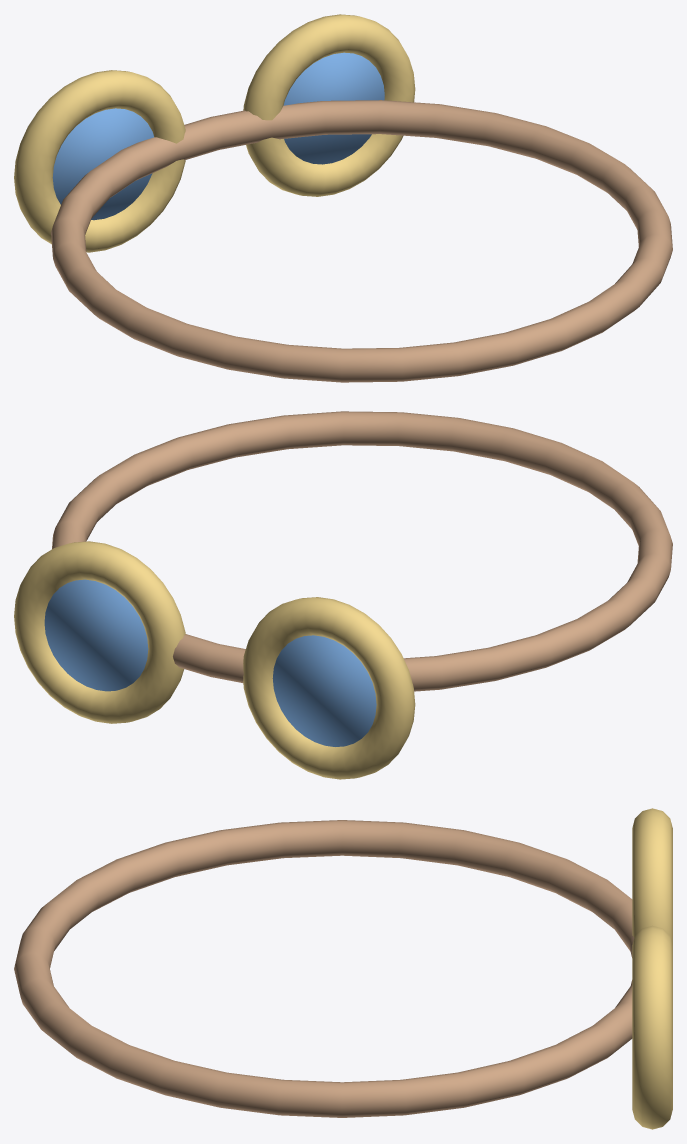
File: pony_goggles.glb
3 views of the same model, one above another, from view 1: azimuth 30°, elevation 25°; view 2: azimuth 150°, elevation 25°; view 3: azimuth 270°, elevation 25° (orthographic). The views are drawn at different scales.
Parts seen in each view (by area): view 1: pony_goggles; view 2: pony_goggles; view 3: pony_goggles.
Part boxes in pixels (<box>): pony_goggles: <box>14,14,672,382</box>; pony_goggles: <box>14,411,672,779</box>; pony_goggles: <box>14,808,672,1129</box>.
Size of the model in its own units: 0.804 by 0.25 by 0.807.
